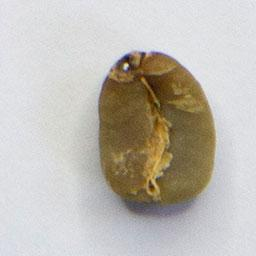defect: (93, 47, 220, 206)
